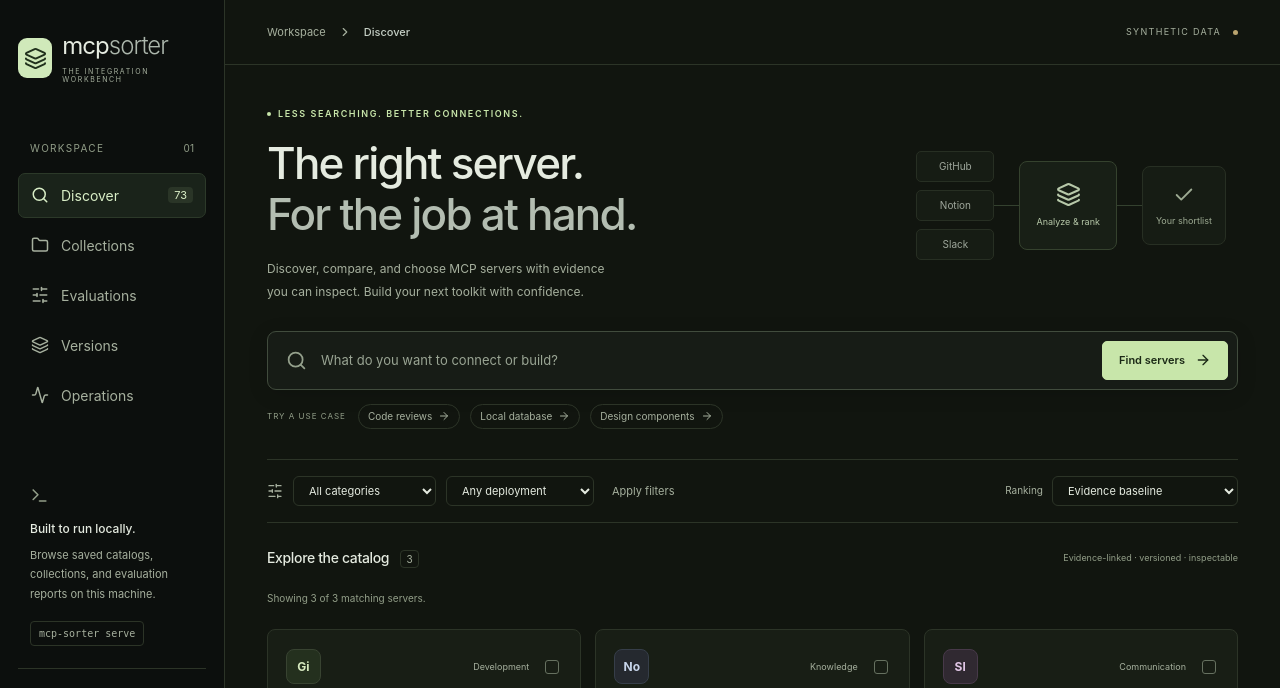
Test case: submits the selected challenge dataset and labels its quality as diagnostic
Click the button "Evaluations" at (112, 295), box x1=18 y1=273 x2=206 y2=318
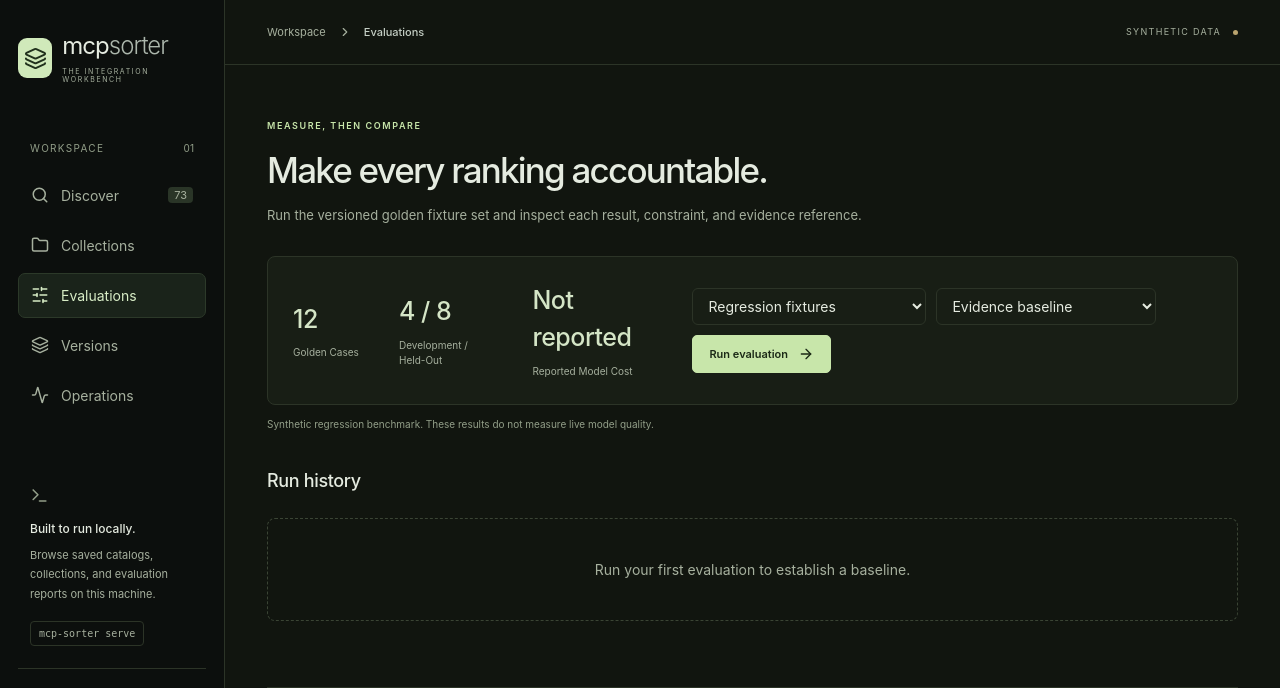
Expected: the text "12" is shown, x1=293 y1=304 x2=318 y2=334
Select "Realistic mock challenges" in the dropdown named "Evaluation dataset" at (809, 306), box x1=692 y1=288 x2=926 y2=325
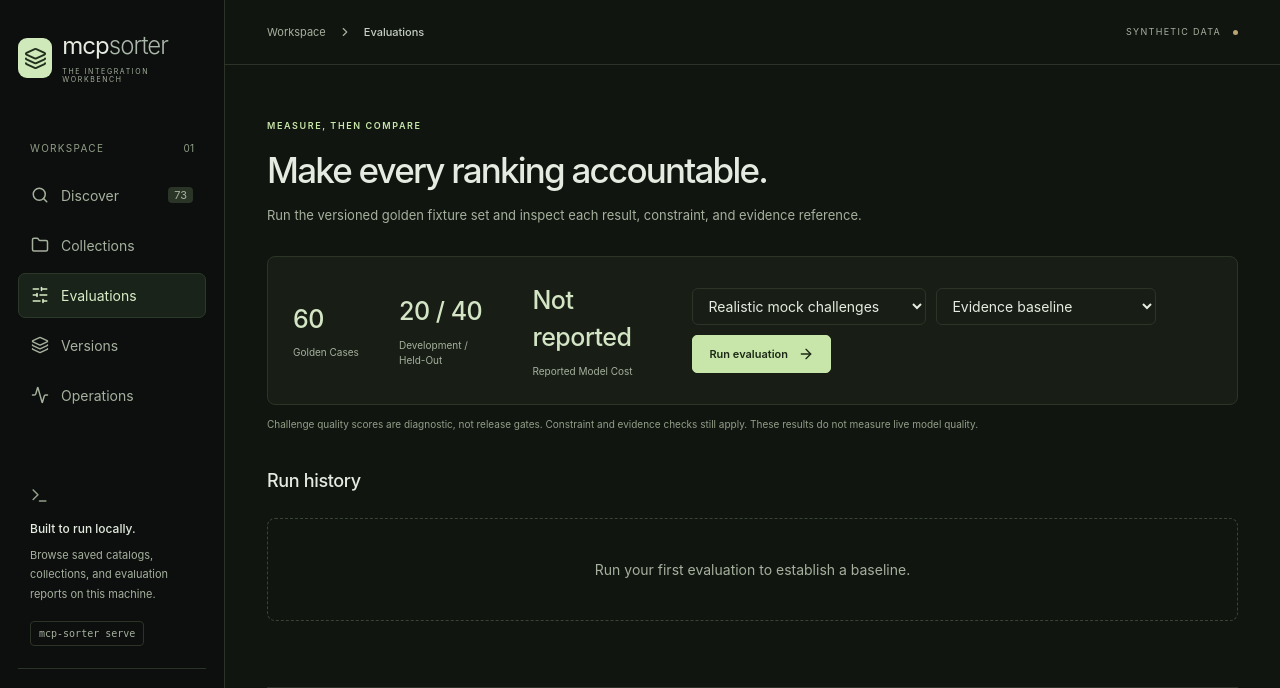
Expected: the text "60" is shown, x1=293 y1=304 x2=324 y2=334
Expected: the text "20 / 40" is shown, x1=399 y1=293 x2=496 y2=331
Click the button "Run evaluation" at (762, 354), box x1=692 y1=335 x2=831 y2=373
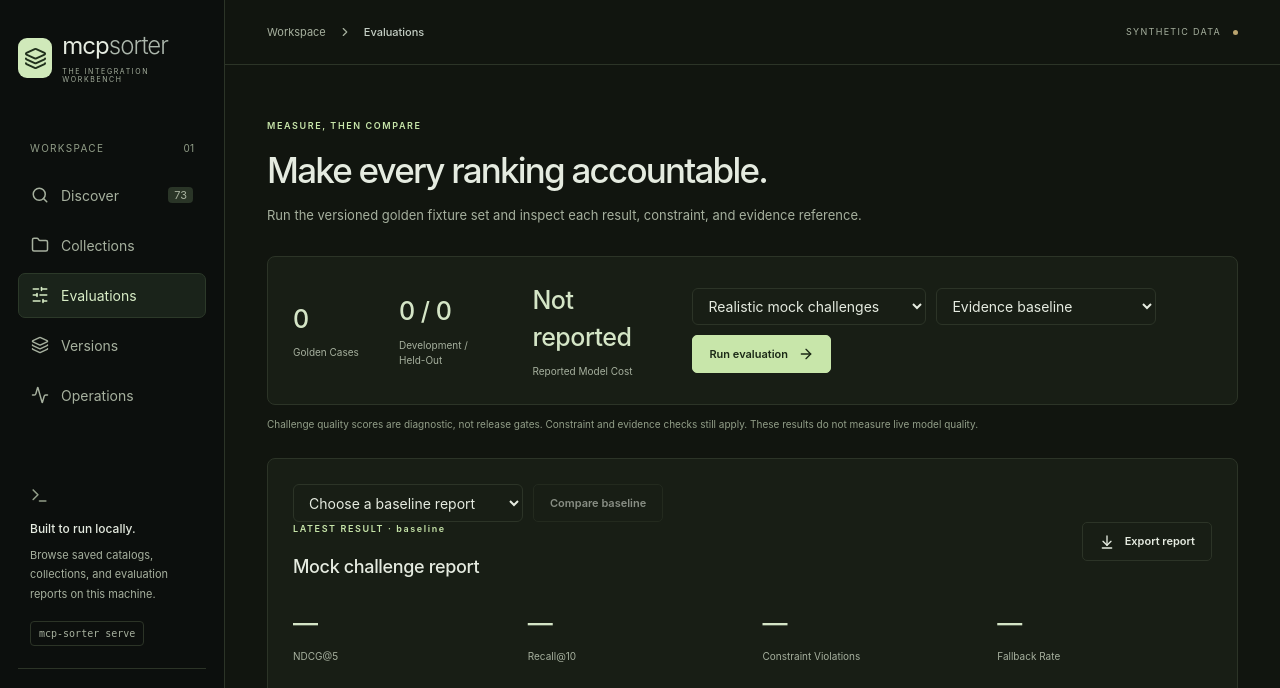
Expected: the text "quality scores are diagnostic, not release gates" is shown, x1=267 y1=418 x2=747 y2=430
Expected: the heading "Mock challenge report" is shown, x1=293 y1=553 x2=479 y2=580
